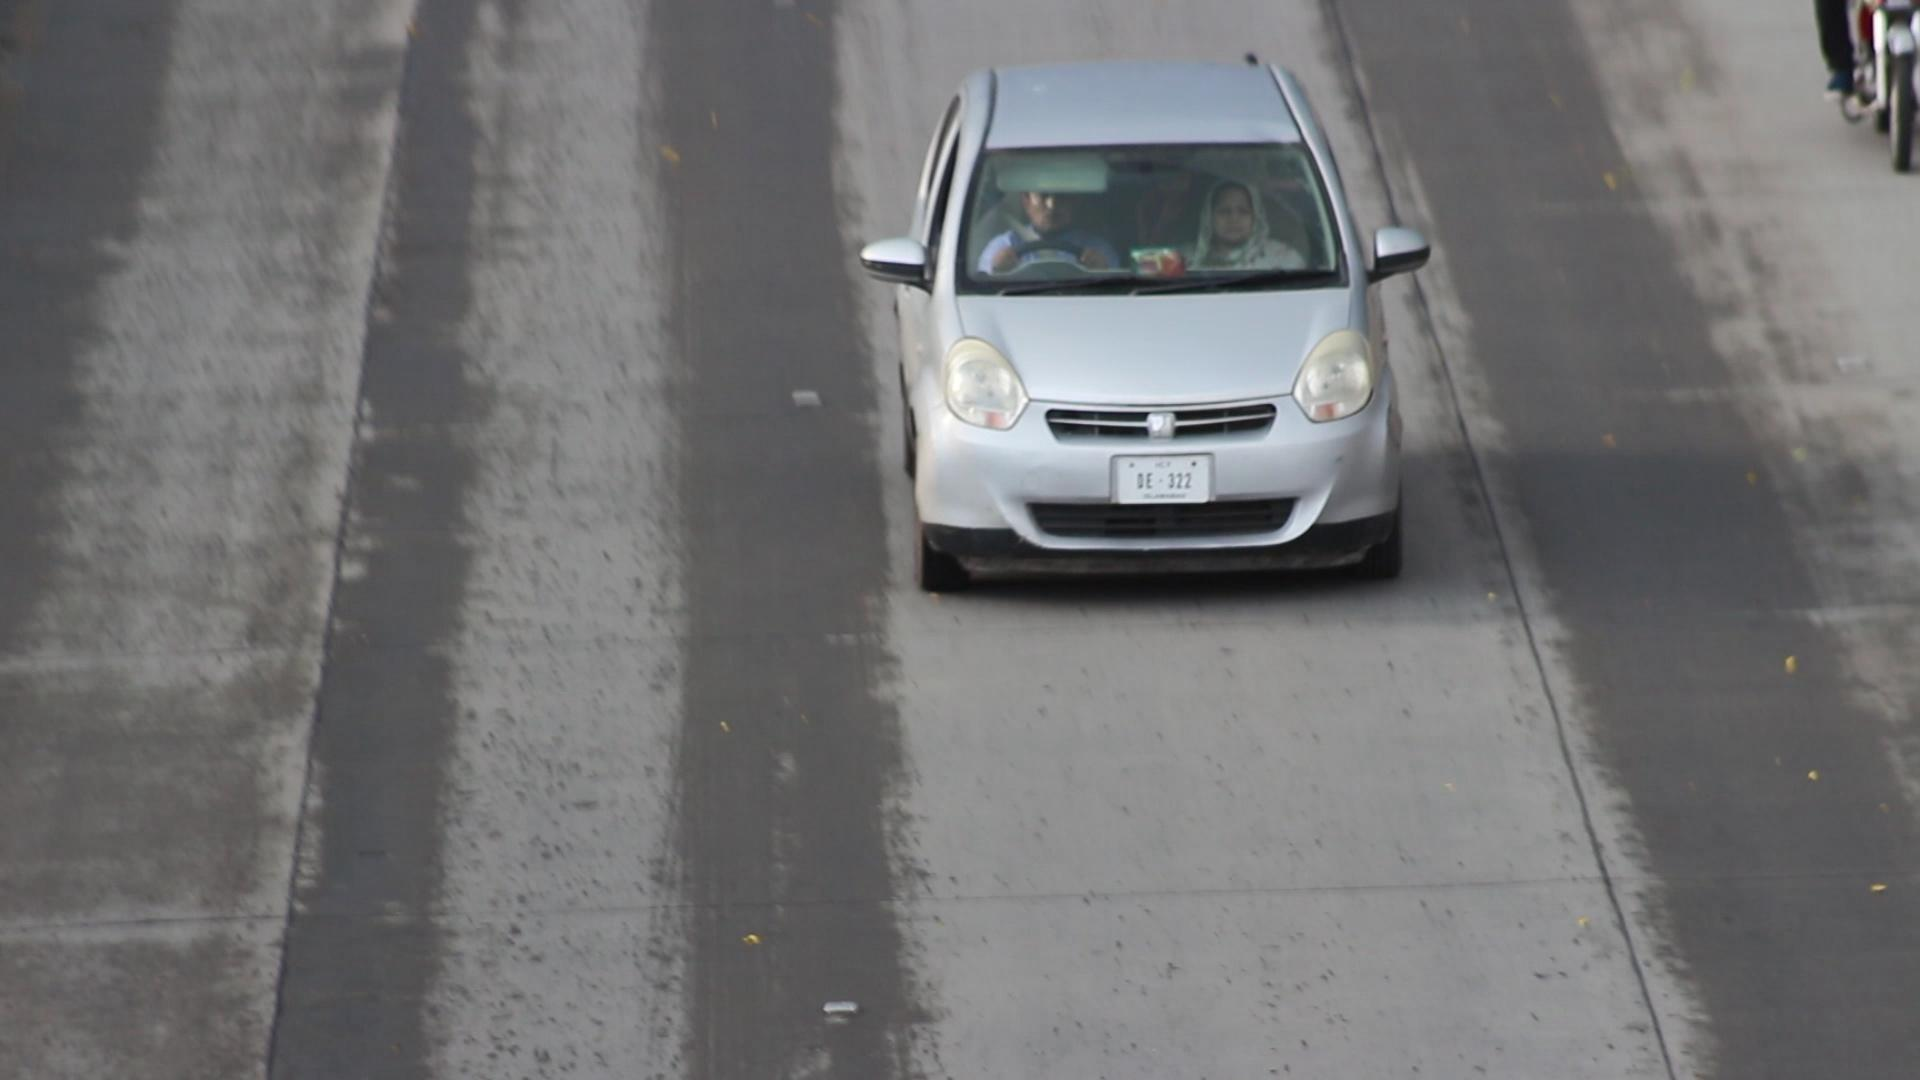windshield: (940, 124, 1374, 307)
